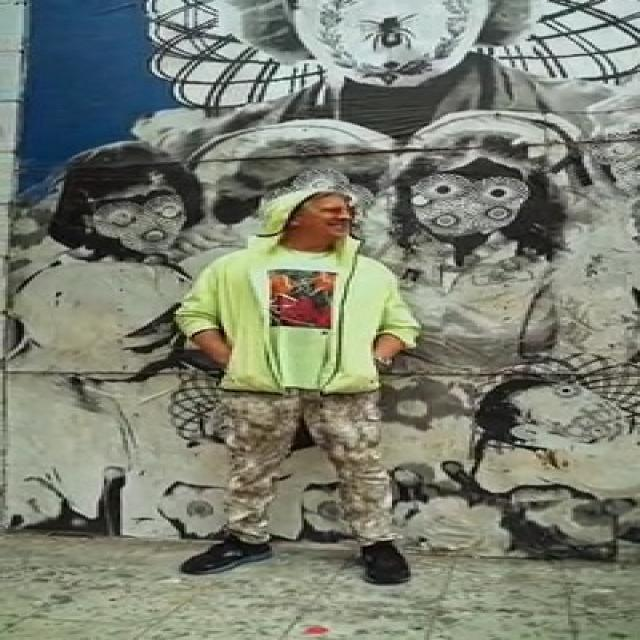Jacket_Wearer: (182, 246, 432, 392)
Person: (170, 186, 434, 579)
